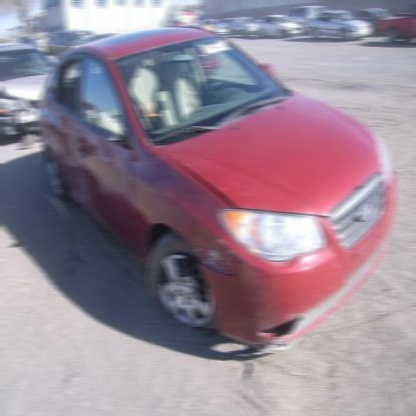Vehicle: (39, 27, 398, 353)
